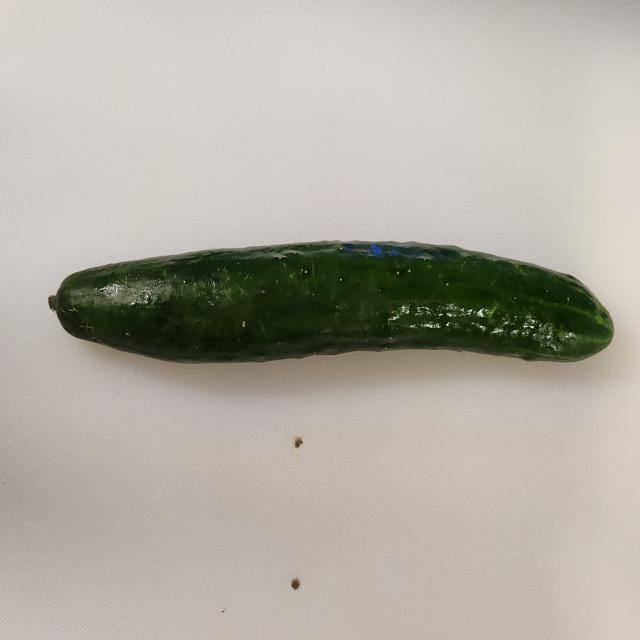cucumber: (48, 238, 615, 364)
